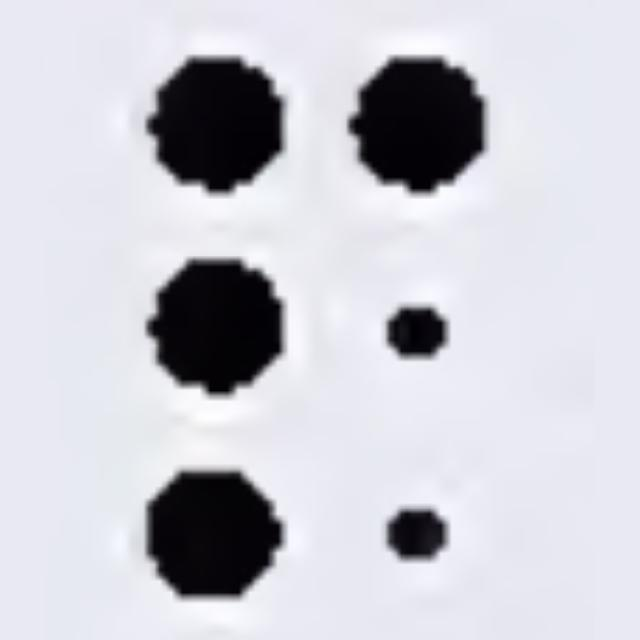letter_p: (145, 56, 485, 595)
